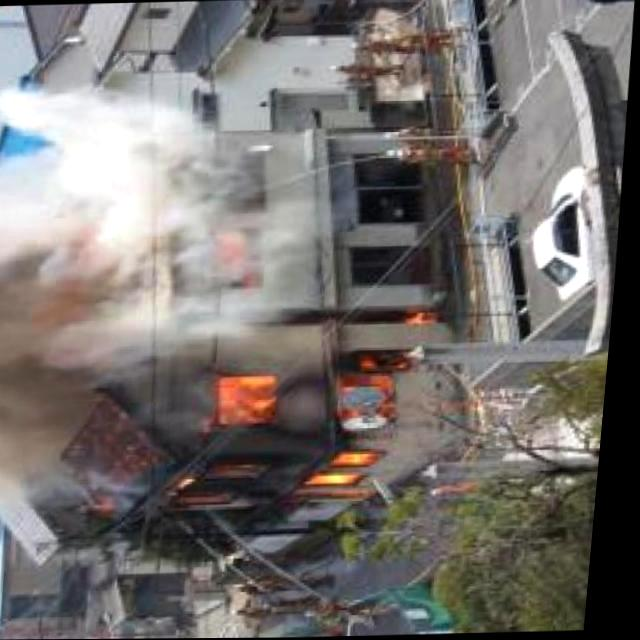fire: (148, 302, 464, 540)
